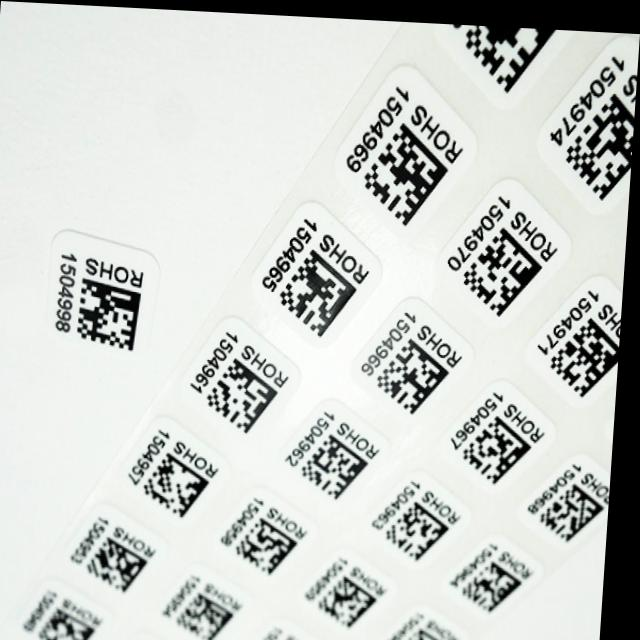datamatrix: (360, 113, 458, 230), (456, 218, 551, 321), (561, 78, 638, 201), (207, 343, 295, 440), (139, 432, 227, 529), (279, 242, 366, 339), (374, 330, 461, 417), (76, 268, 150, 357), (459, 542, 541, 622), (536, 467, 617, 547), (460, 407, 542, 486), (384, 488, 466, 567), (302, 426, 378, 501), (90, 527, 161, 602), (243, 516, 306, 575), (184, 586, 247, 640), (394, 623, 472, 640)
